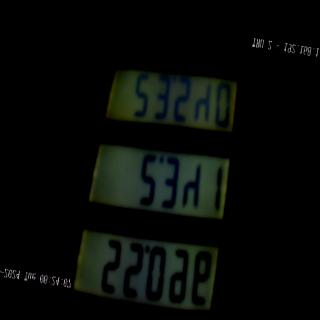screen: (65, 21, 260, 320)
